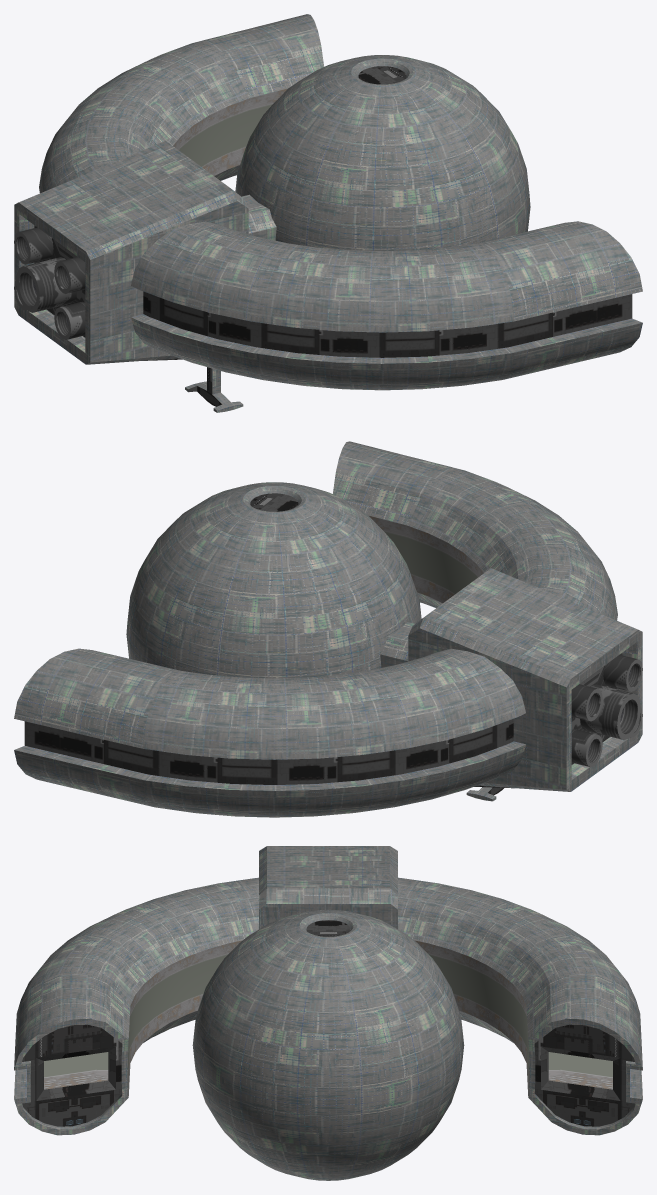
File: Station_space_station_0.obj
3 renders of one model, top to bottom at view 1: azimuth 30°, elevation 25°; view 2: azimuth 150°, elevation 25°; view 3: azimuth 270°, elevation 25°, orthographic. The views are drawn at different scales.
Visible parts, largest first — view 1: Station_space_station_0; view 2: Station_space_station_0; view 3: Station_space_station_0.
Part boxes in pixels (x1,y1,x2,y2): Station_space_station_0: (14,14,642,412); Station_space_station_0: (14,441,642,817); Station_space_station_0: (14,846,642,1180).
Size of the model in its own units: 2 by 1.04 by 2.47.
